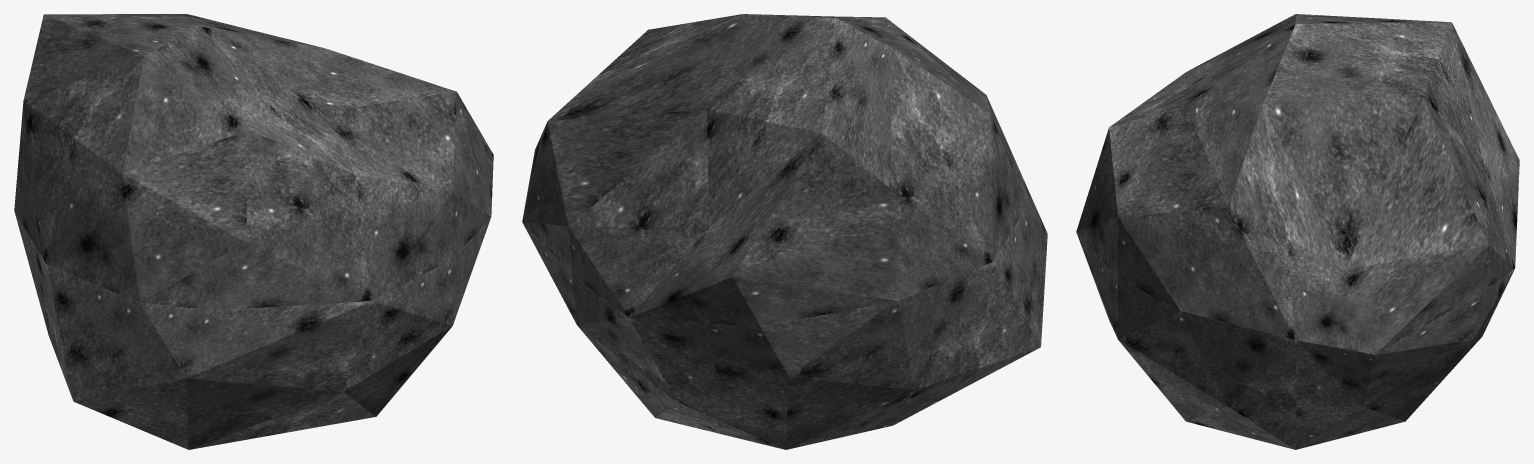
File: SMallregular.obj
3 renders of one model, left to right at view 1: azimuth 30°, elevation 25°; view 2: azimuth 150°, elevation 25°; view 3: azimuth 270°, elevation 25°, orthographic. The views are drawn at different scales.
Parts seen in each view (by area): view 1: asteroid 1; view 2: asteroid 1; view 3: asteroid 1.
Part boxes in pixels (box(x1,y1,x2,y2)): asteroid 1: box(14, 14, 493, 449); asteroid 1: box(522, 14, 1047, 449); asteroid 1: box(1076, 14, 1519, 449).
Size of the model in its own units: 2.21 by 1.93 by 2.02.
